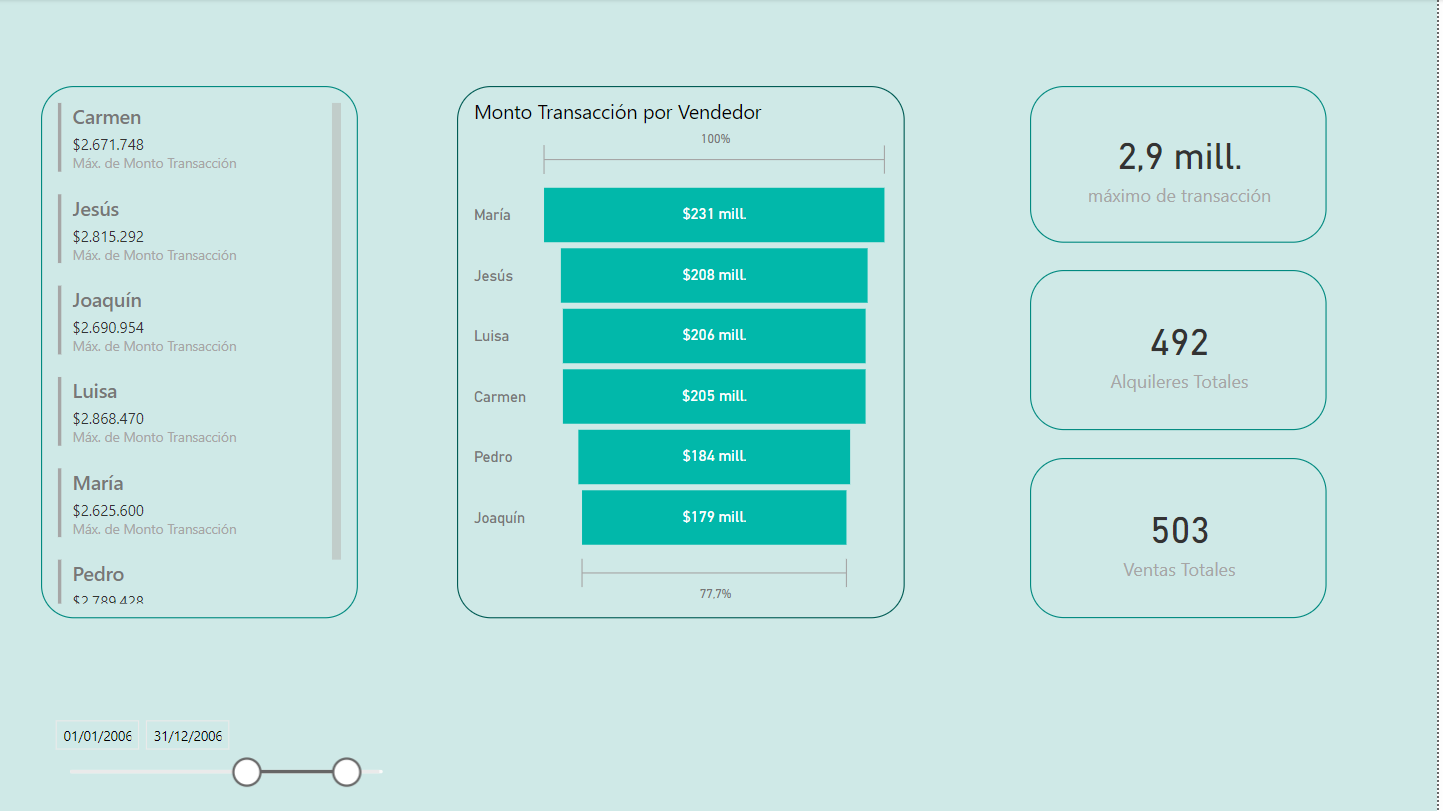

Layout of this report page (visuals, bound fields, positions):
{"tool":"powerbi","page":{"name":"Página 1","canvas":[1280,720],"ordinal":0},"visuals":[{"type":"card","fields":{"Values":["Tabla1.máximo de transacción"]},"box":[919.5,77.1,263.3,139.2],"z":0},{"type":"multiRowCard","fields":{"Values":["Tabla1.Vendedor","Tabla1.Monto Transacción"]},"box":[42.6,77.1,281.1,471.7],"z":1000},{"type":"slicer","fields":{"Values":["Tabla1.Fecha Transacción"]},"box":[42.9,629.8,323.6,77.6],"z":2000},{"type":"funnel","fields":{"Y":["Tabla1.Monto Transacción"],"Category":["Tabla1.Vendedor"]},"box":[411.4,77.1,397.2,471.7],"z":3000},{"type":"card","fields":{"Values":["Tabla1.Alquileres Totales"]},"box":[919.5,240.3,263.3,141.9],"z":4000},{"type":"card","fields":{"Values":["Tabla1.Ventas Totales"]},"box":[919.5,407,263.3,141.9],"z":5000}]}

Visuals, with their boxes in screenshot pixels (x1, y1, x2, y2), scaled from the page's 1280x720 canvas onto the 1443x811 screenshot:
card - Tabla1.máximo de transacción: 1037 87 1333 244
multiRowCard - Tabla1.Vendedor x Tabla1.Monto Transacción: 48 87 365 618
slicer - Tabla1.Fecha Transacción: 48 709 413 797
funnel - Tabla1.Monto Transacción x Tabla1.Vendedor: 464 87 912 618
card - Tabla1.Alquileres Totales: 1037 271 1333 431
card - Tabla1.Ventas Totales: 1037 458 1333 618
